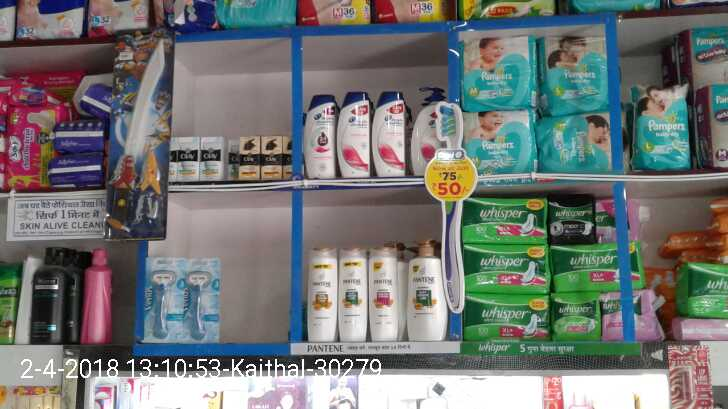venus: (182, 255, 221, 345), (143, 256, 182, 345)
